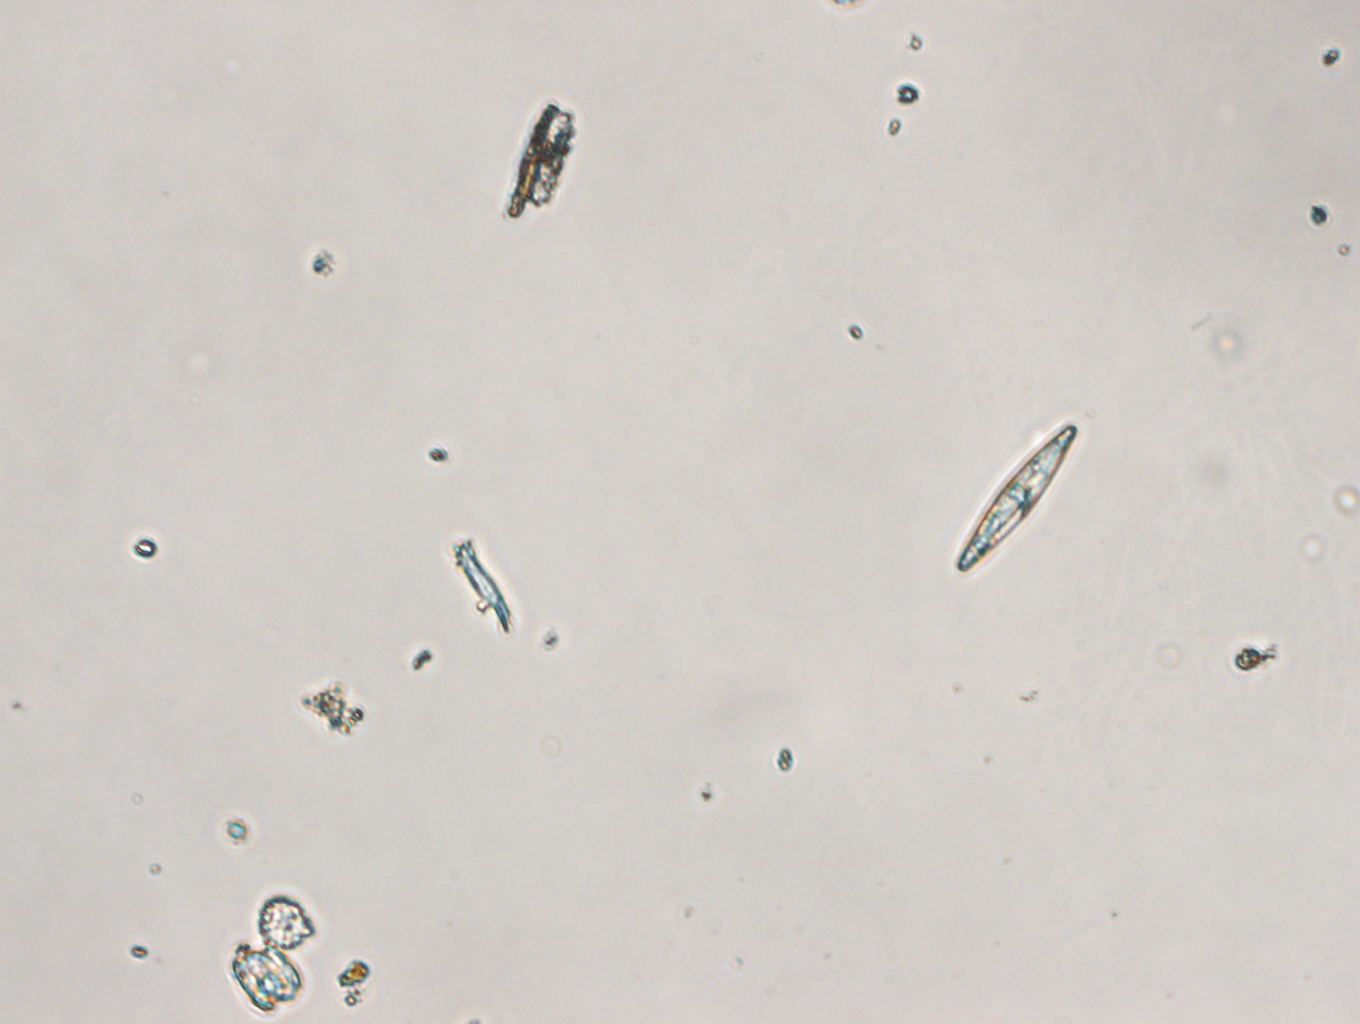navicula: (955, 417, 1083, 575)
